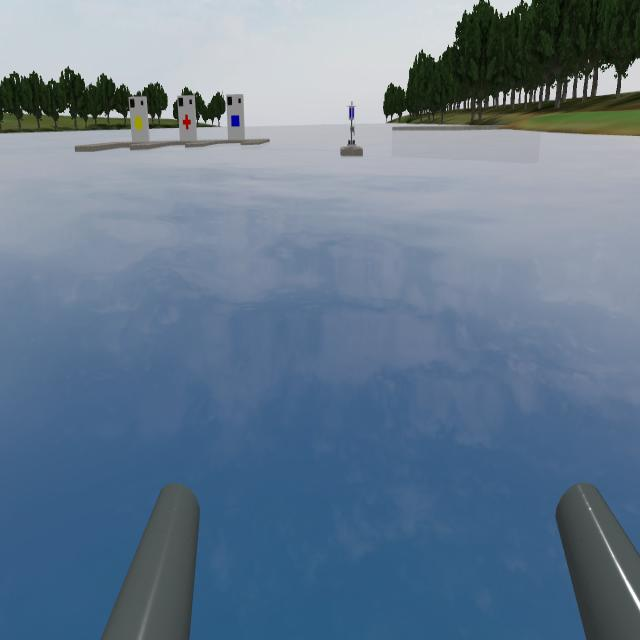blue_pole: (345, 102, 369, 132)
